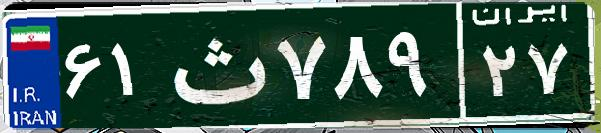1: (110, 28, 158, 105)
2: (475, 38, 525, 113)
6: (57, 26, 110, 107)
7: (273, 28, 330, 110), (525, 38, 570, 115)
8: (330, 28, 385, 110)
9: (385, 28, 445, 110)
ث: (158, 15, 273, 115)
